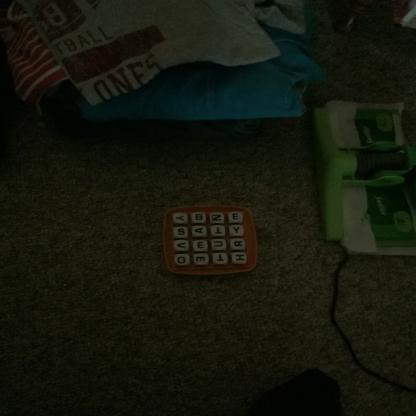a: (193, 227, 207, 237)
b: (194, 213, 207, 224)
e: (195, 241, 210, 252), (230, 212, 244, 223), (195, 255, 210, 265)
h: (233, 253, 248, 265)
n: (211, 213, 226, 224)
o: (175, 256, 191, 267)
r: (232, 240, 247, 251)
s: (174, 228, 189, 238)
t: (214, 253, 229, 265), (212, 227, 226, 237)
u: (213, 240, 226, 250)
v: (175, 241, 190, 253)
y: (230, 226, 246, 237), (173, 214, 189, 224)
